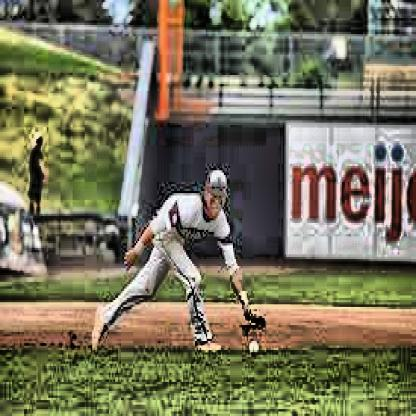baseball: (250, 338, 260, 358)
